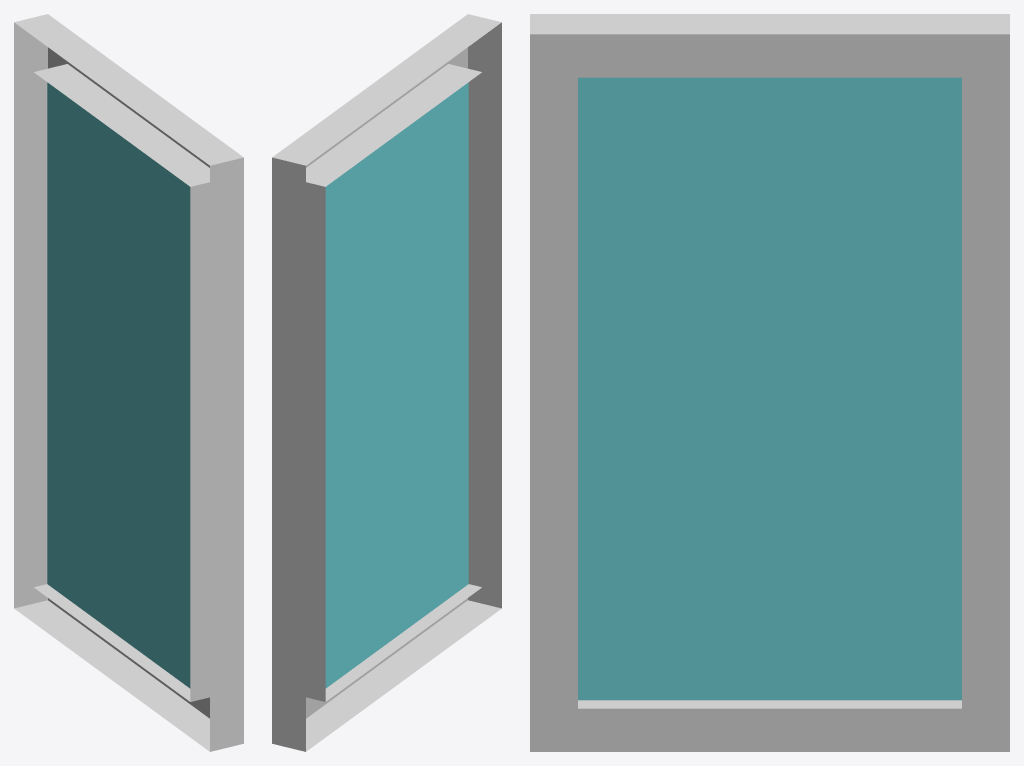
Rendered from fenetre.glb.
3 renders of one model, left to right at view 1: azimuth 30°, elevation 25°; view 2: azimuth 150°, elevation 25°; view 3: azimuth 270°, elevation 25°, orthographic. The views are drawn at different scales.
Visible parts, largest first — view 1: Cube; view 2: Cube; view 3: Cube.
Boxes of the visible parts, box(x1,y1,x2,y2) form: Cube: box(14, 14, 243, 751); Cube: box(272, 14, 501, 751); Cube: box(530, 14, 1009, 751).
Bounding box in the file's own units: 0.1 × 1.65 × 1.
